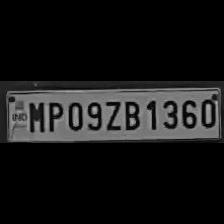0: (64, 98, 84, 132), (198, 96, 216, 128)
1: (142, 97, 160, 131)
3: (160, 96, 178, 130)
6: (179, 96, 197, 130)
9: (84, 97, 102, 132)
B: (121, 97, 141, 131)
M: (25, 98, 43, 134)
P: (43, 99, 62, 134)
Z: (102, 97, 120, 131)
